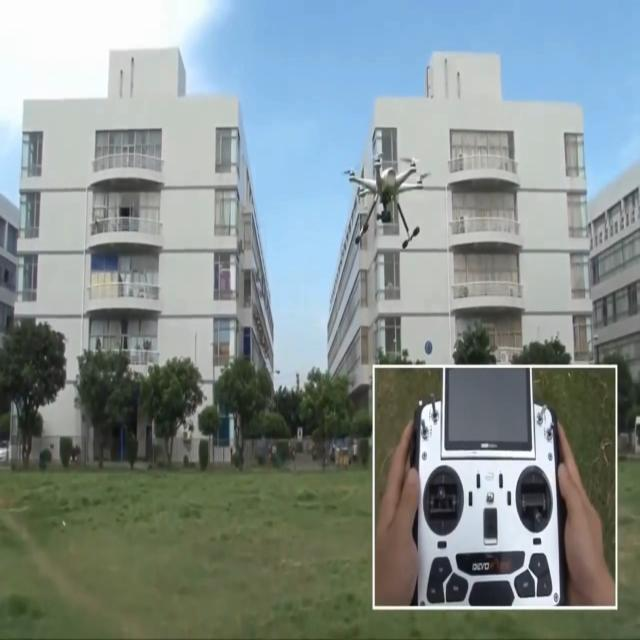drone: (342, 152, 431, 249)
